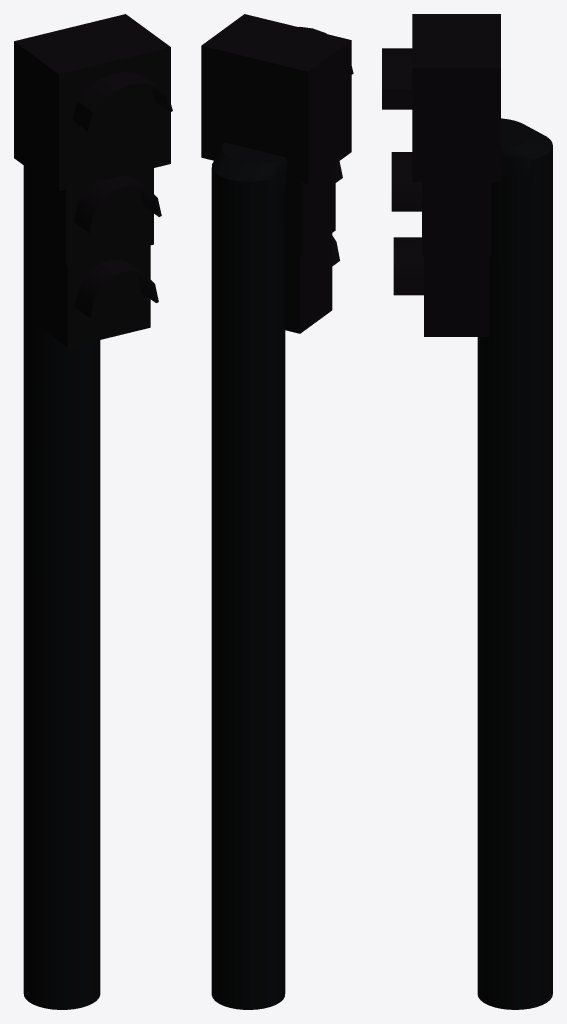
File: Semaforo pequeño.fbx
3 renders of one model, left to right at view 1: azimuth 30°, elevation 25°; view 2: azimuth 150°, elevation 25°; view 3: azimuth 270°, elevation 25°, orthographic. The views are drawn at different scales.
Visible parts, largest first — view 1: Semaforo 2; view 2: Semaforo 2; view 3: Semaforo 2.
Boxes of the visible parts, x1=… form: Semaforo 2: x1=14, y1=14, x2=172, y2=1009; Semaforo 2: x1=201, y1=14, x2=353, y2=1009; Semaforo 2: x1=382, y1=14, x2=552, y2=1009.
Bounding box in the file's own units: 36.75 × 305 × 49.56.
1 material, 1 textured.
